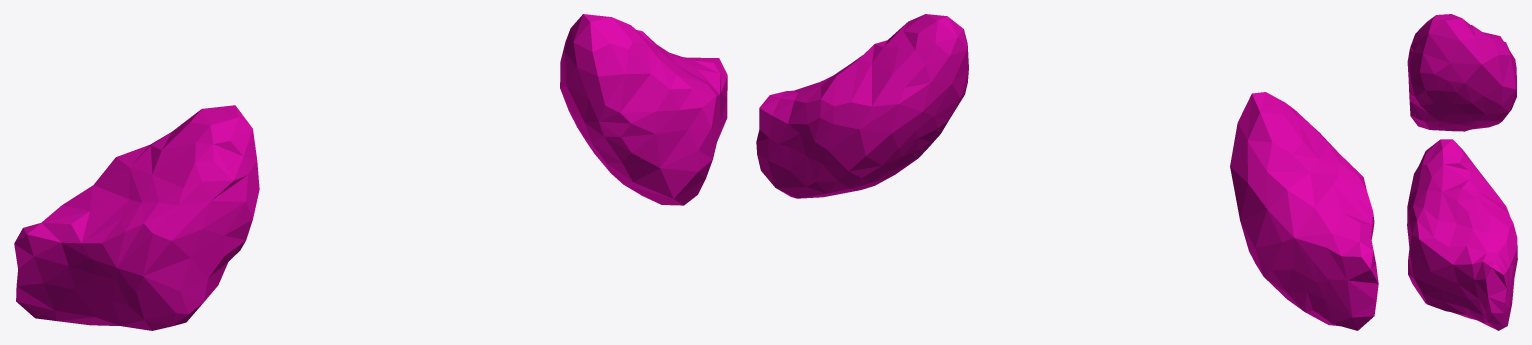
The model's file is 197-EI-entorhinal Cx, intermediate part-('1.0000', '0.0000', '0.7647').obj.
3 renders of one model, left to right at view 1: azimuth 30°, elevation 25°; view 2: azimuth 150°, elevation 25°; view 3: azimuth 270°, elevation 25°, orthographic. The views are drawn at different scales.
Size of the model in its own units: 126 by 35.8 by 24.62.
